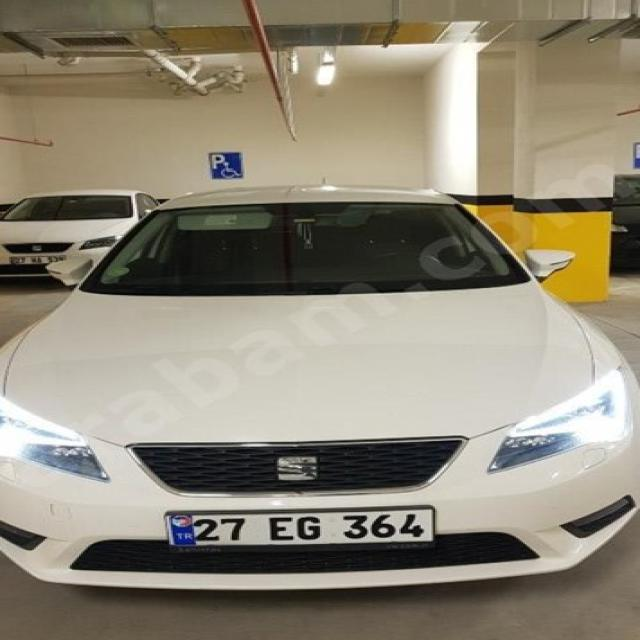license_plate: (168, 508, 436, 546), (9, 256, 65, 264)
